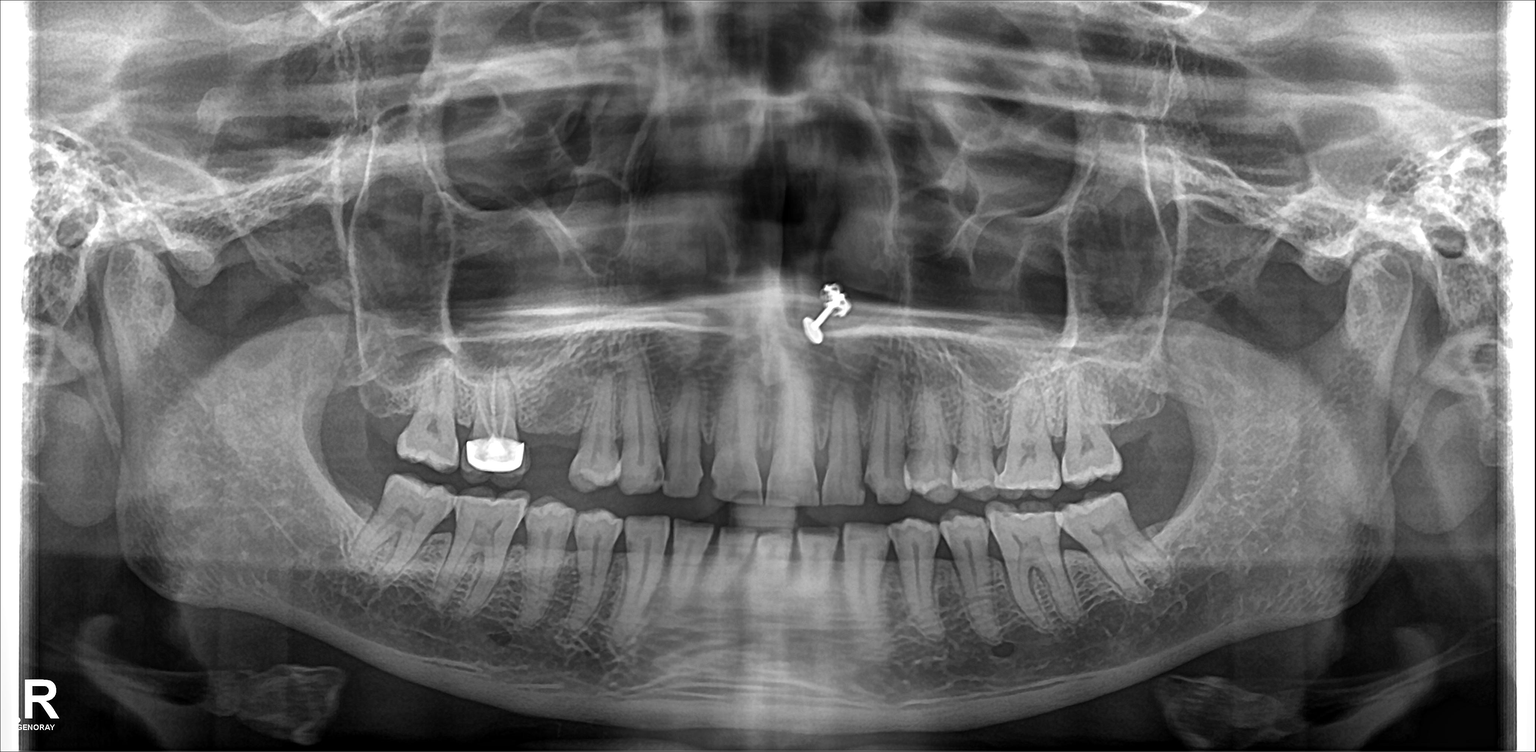Endodontically Treated Tooth: (464, 374, 527, 475)
Missing Tooth: (296, 359, 361, 450), (1106, 372, 1165, 471), (523, 370, 578, 475), (324, 463, 386, 556), (361, 363, 410, 466), (1140, 475, 1190, 563)
